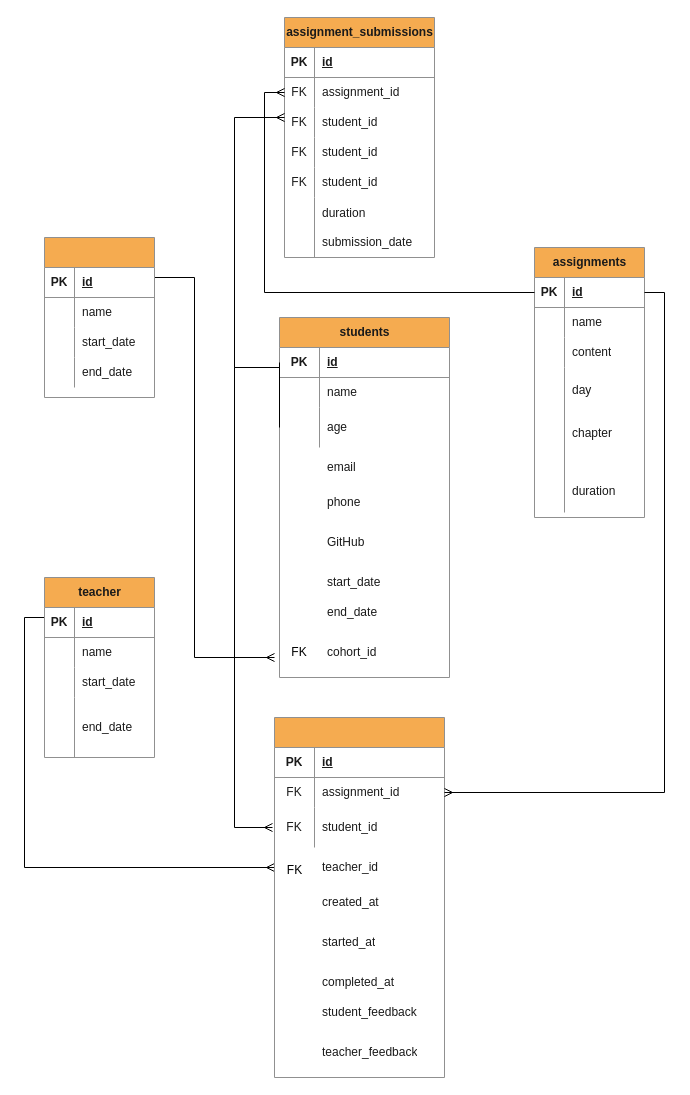
Some shapes in this 690 by 1095 pixel diagram are drawn without their labels. Each missing label, with the box of its shape:
assistance_requests: (274, 716, 444, 1078)
cohorts: (44, 236, 154, 398)
